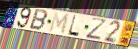2: (103, 20, 121, 44)
9: (17, 6, 33, 29)
B: (28, 9, 49, 32)
L: (67, 15, 81, 38)
M: (47, 11, 70, 35)
Z: (85, 16, 109, 41)
